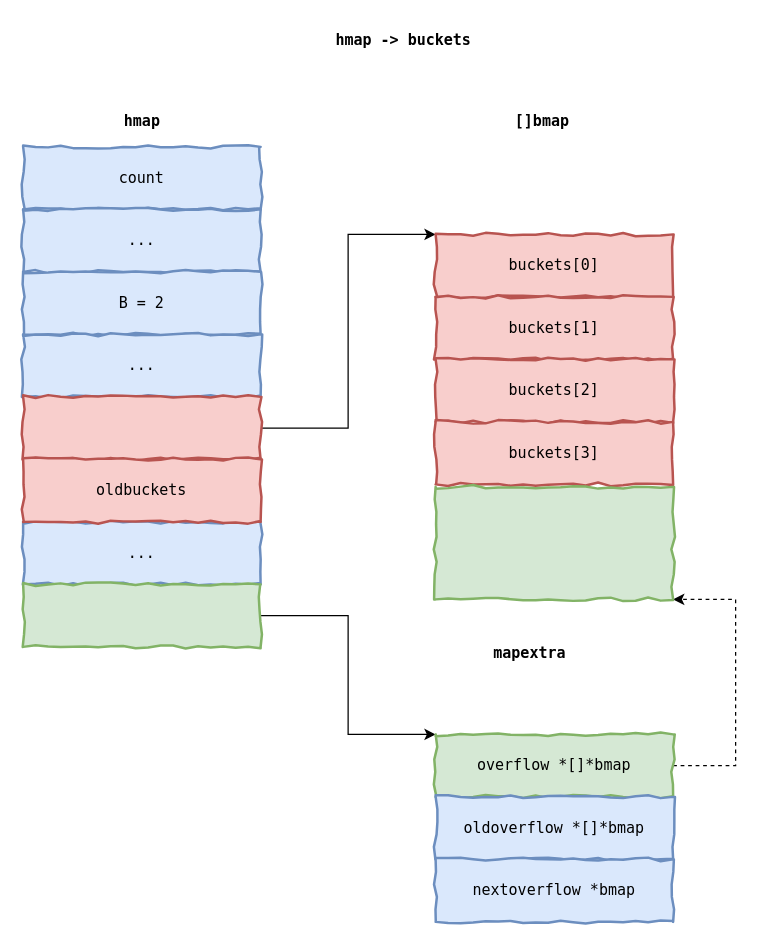
Some shapes in this 768 by 944 pixel diagram are drawn without their labels. The centre of each missing label's shape, as x and y in pixels:
buckets: the point at 141,427
buckets[...]: the point at 554,542
extra: the point at 141,615
